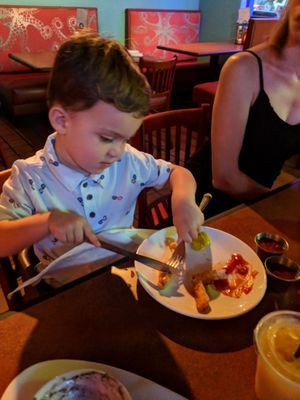pizza: (253, 310, 300, 400)
sandwich: (97, 233, 179, 274)
sushi: (1, 359, 135, 400), (253, 309, 300, 400)
